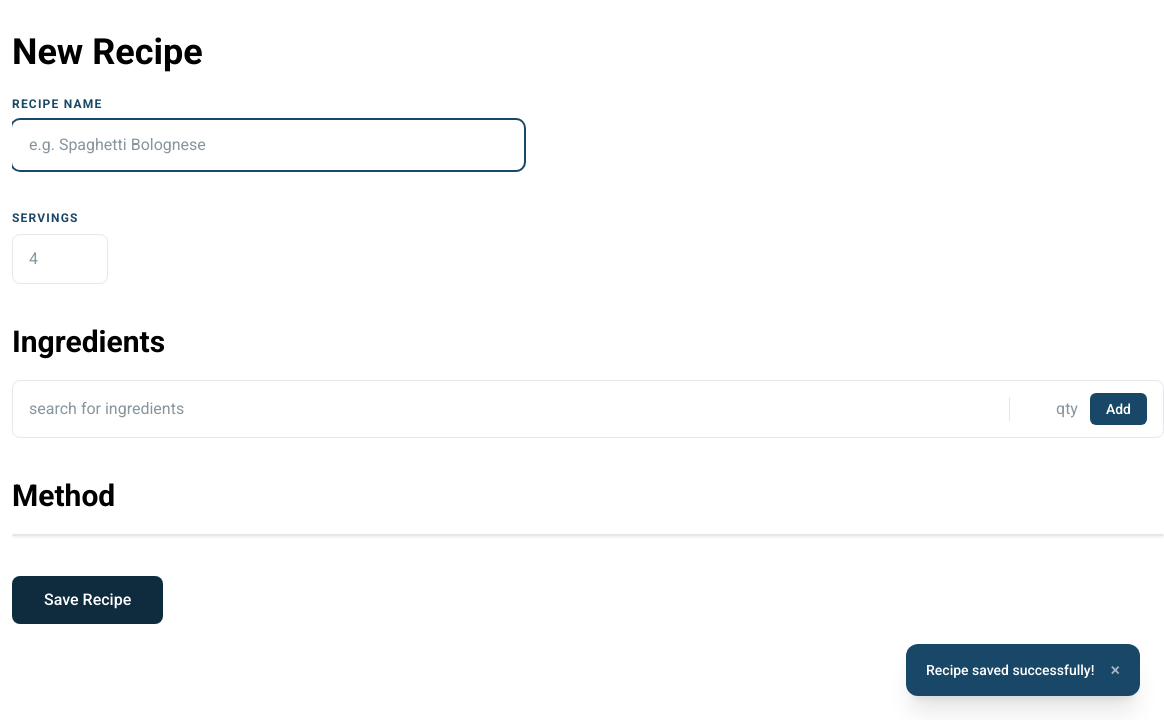
Test: RecipeEditorPage › success toast › dismisses the toast when the close button is clicked
The width and height of the screenshot is (1164, 720).
Click the button named "dismiss" at (1115, 670), box x1=1110 y1=661 x2=1120 y2=679
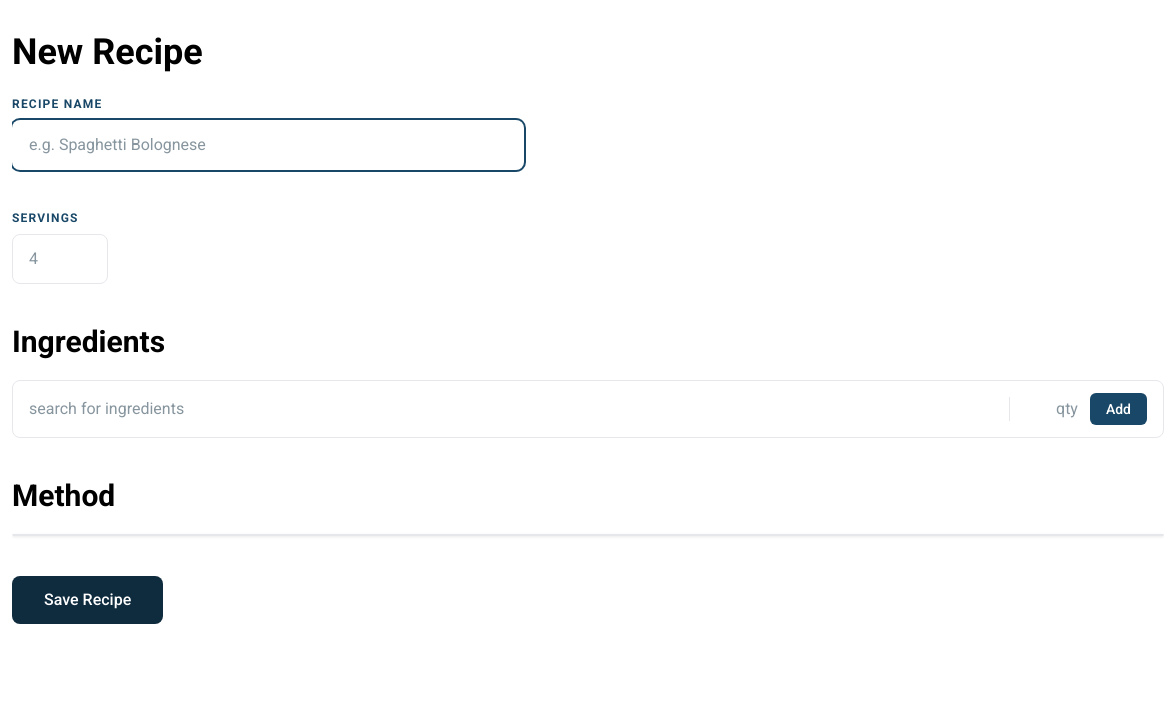
Expected: the text "Recipe saved successfully!" is gone
